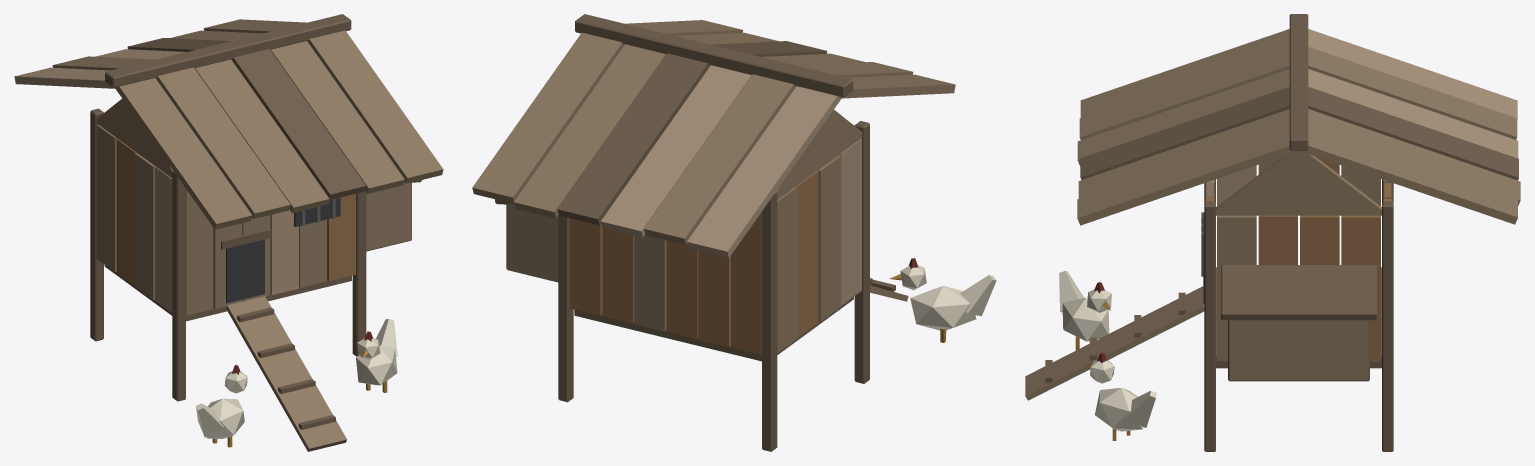
File: chicken_coop.glb
3 renders of one model, left to right at view 1: azimuth 30°, elevation 25°; view 2: azimuth 150°, elevation 25°; view 3: azimuth 270°, elevation 25°, orthographic. The views are drawn at different scales.
Visible parts, largest first — view 1: Chicken_Coop; view 2: Chicken_Coop; view 3: Chicken_Coop.
Part boxes in pixels (x1=…): Chicken_Coop: x1=14, y1=14, x2=443, y2=451; Chicken_Coop: x1=472, y1=14, x2=996, y2=451; Chicken_Coop: x1=1025, y1=14, x2=1520, y2=451.
Size of the model in its own units: 1.58 by 1.53 by 2.09.
